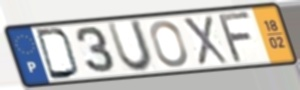3: (75, 26, 117, 76)
D: (33, 27, 82, 81)
F: (217, 9, 255, 65)
O: (148, 18, 190, 69)
U: (104, 18, 156, 75)
X: (180, 14, 231, 67)
